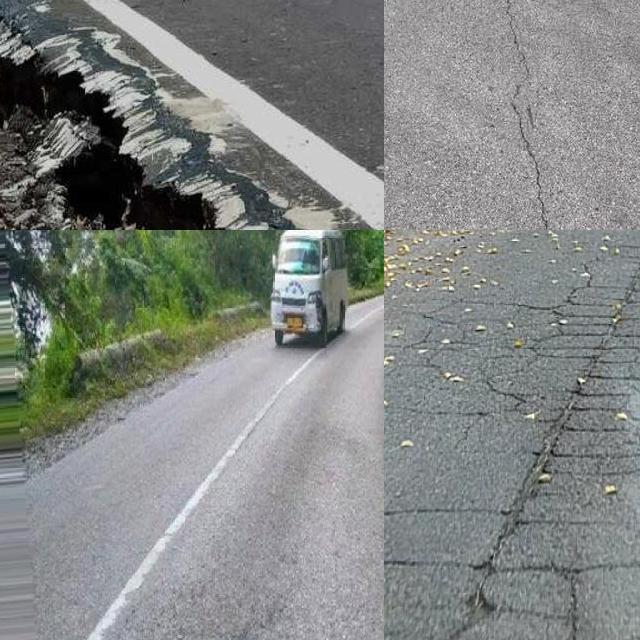Memanjang: (479, 0, 591, 230)
Pinggir: (0, 0, 281, 230)
Retak Buaya: (384, 244, 640, 640)
